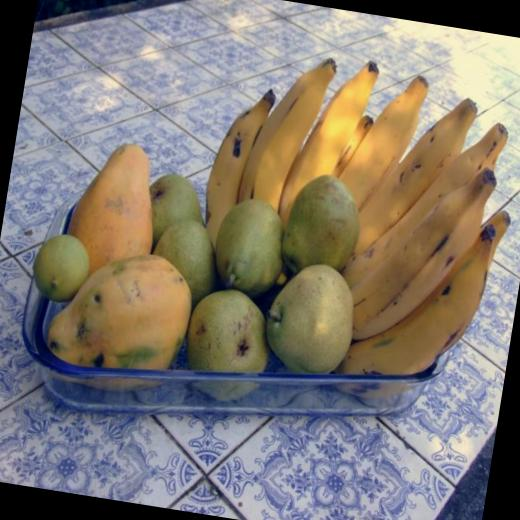Banana: (176, 40, 520, 425)
